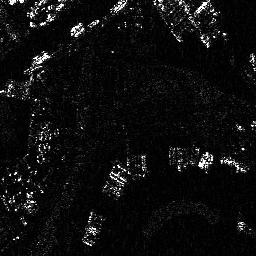ship: (219, 155, 250, 173)
